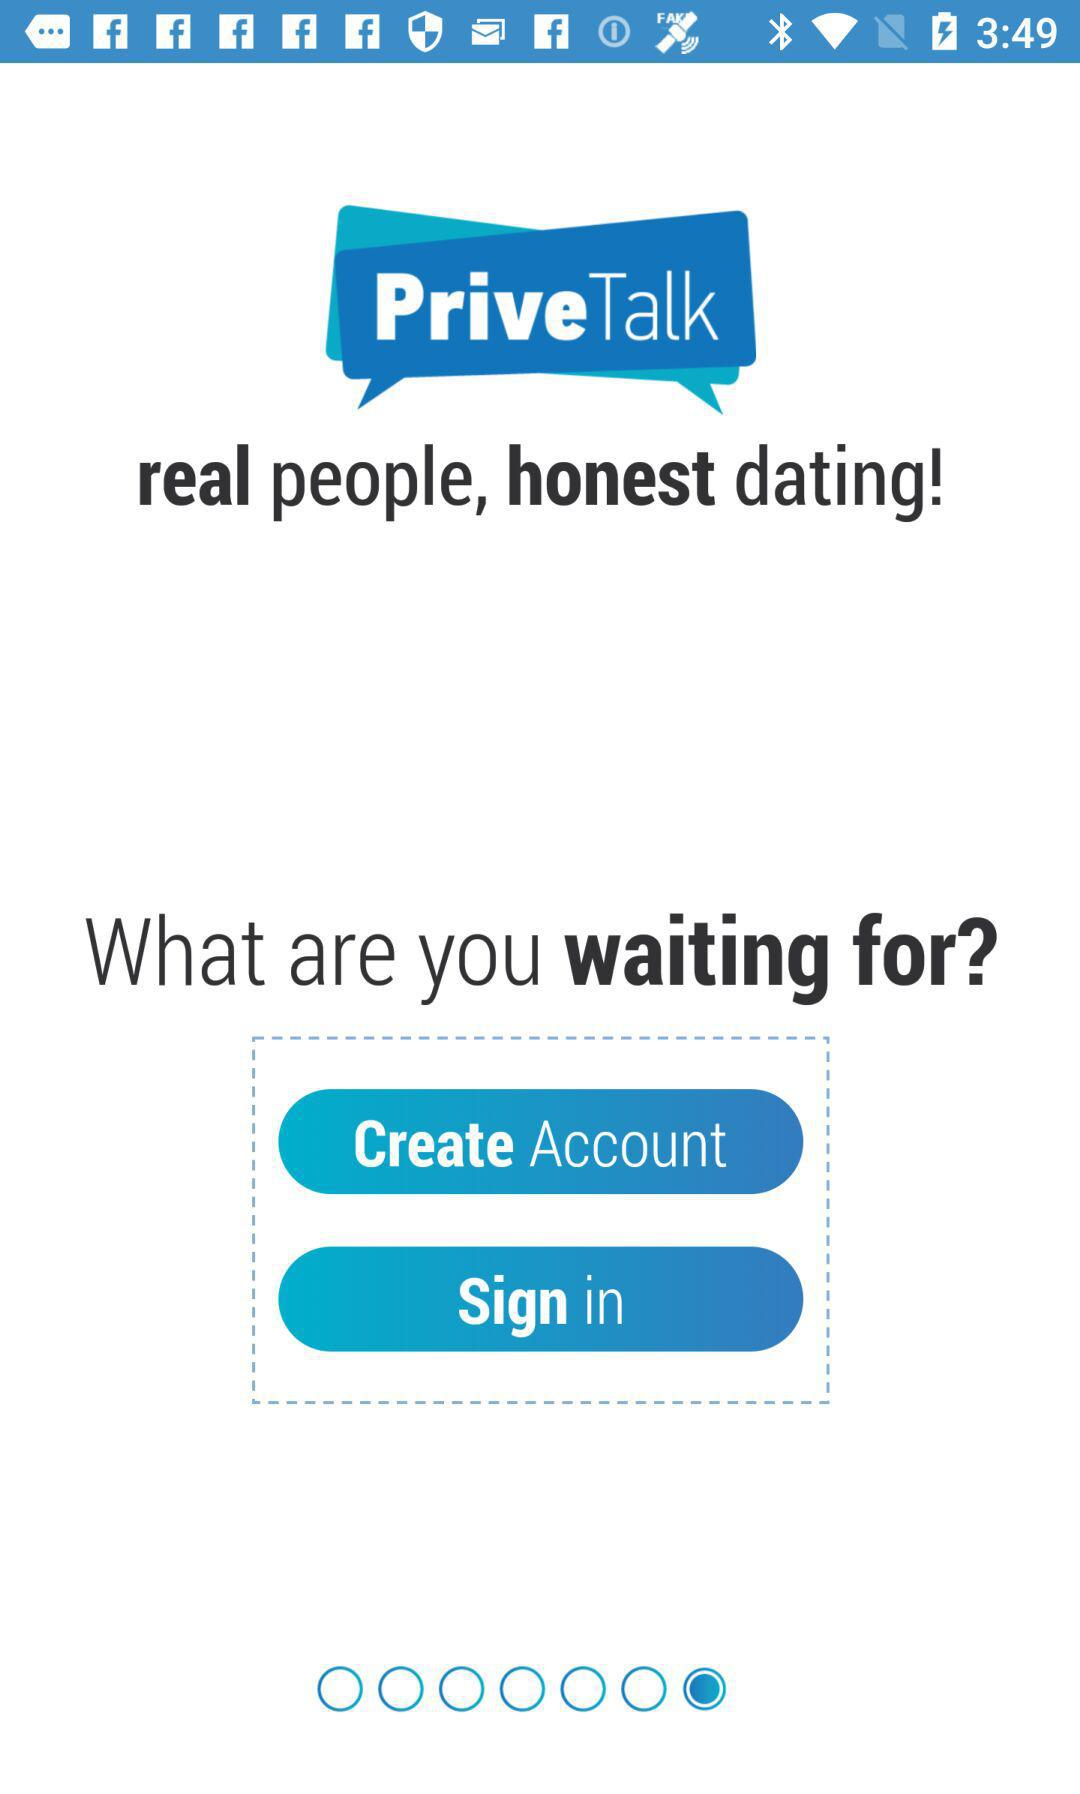Image: (325, 202, 758, 415)
PageIndicator: (316, 1663, 730, 1716)
Text: (85, 910, 1001, 1008), (138, 442, 947, 525)
TextButton: (278, 1244, 805, 1354), (279, 1088, 805, 1196)
UpperTaskBar: (1, 1, 1080, 64)
